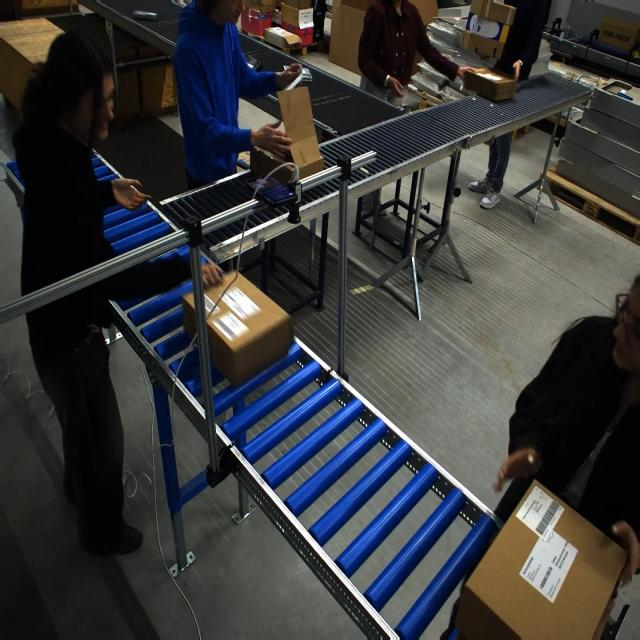box: (181, 271, 289, 388), (254, 85, 324, 183), (463, 66, 518, 102)
